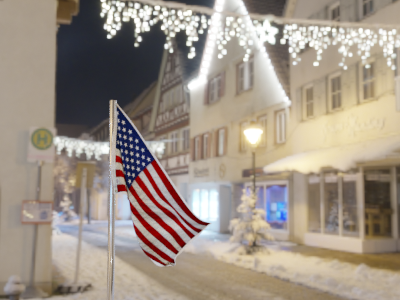America flag: (114, 101, 213, 269)
